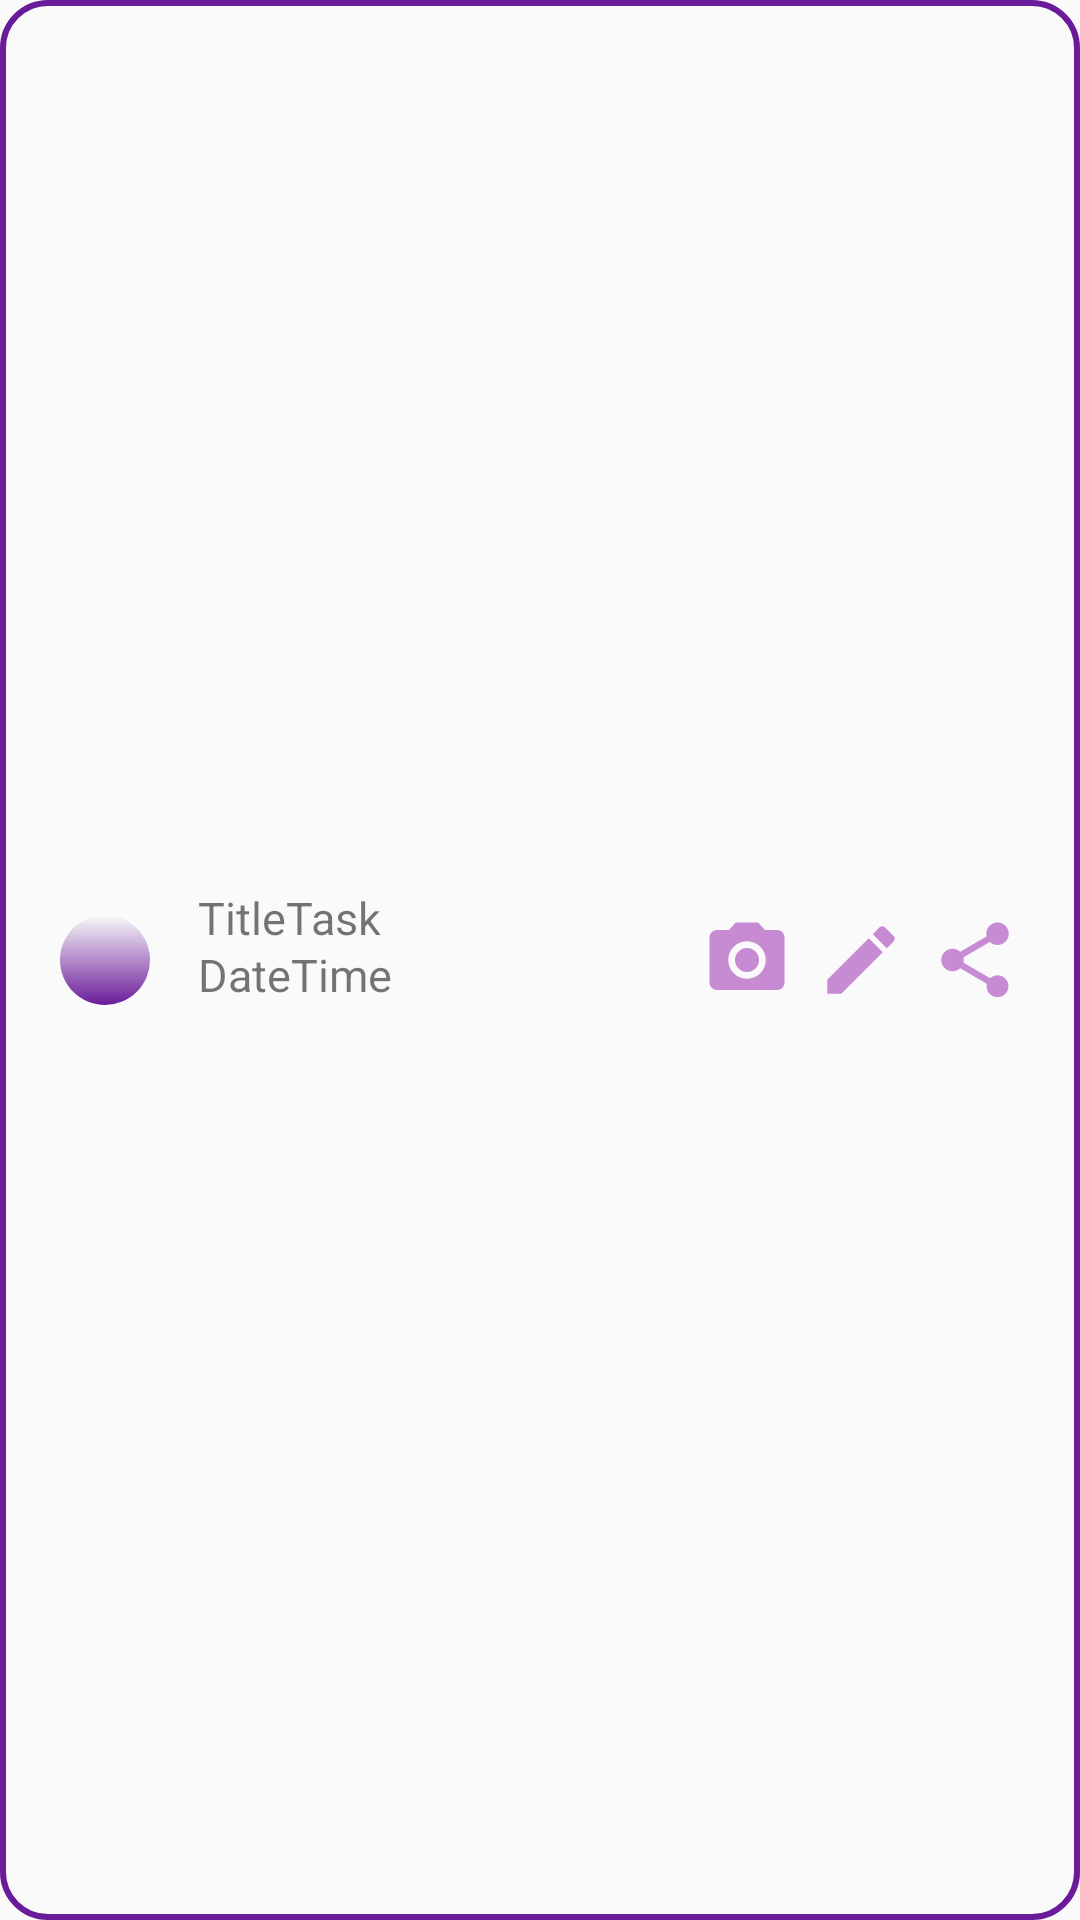

Where to tap for icons on this 1080 x 1920 app screen, as (x=x, y=y):
edit: (x=861, y=960)
share: (x=975, y=960)
take photo: (x=747, y=956)
